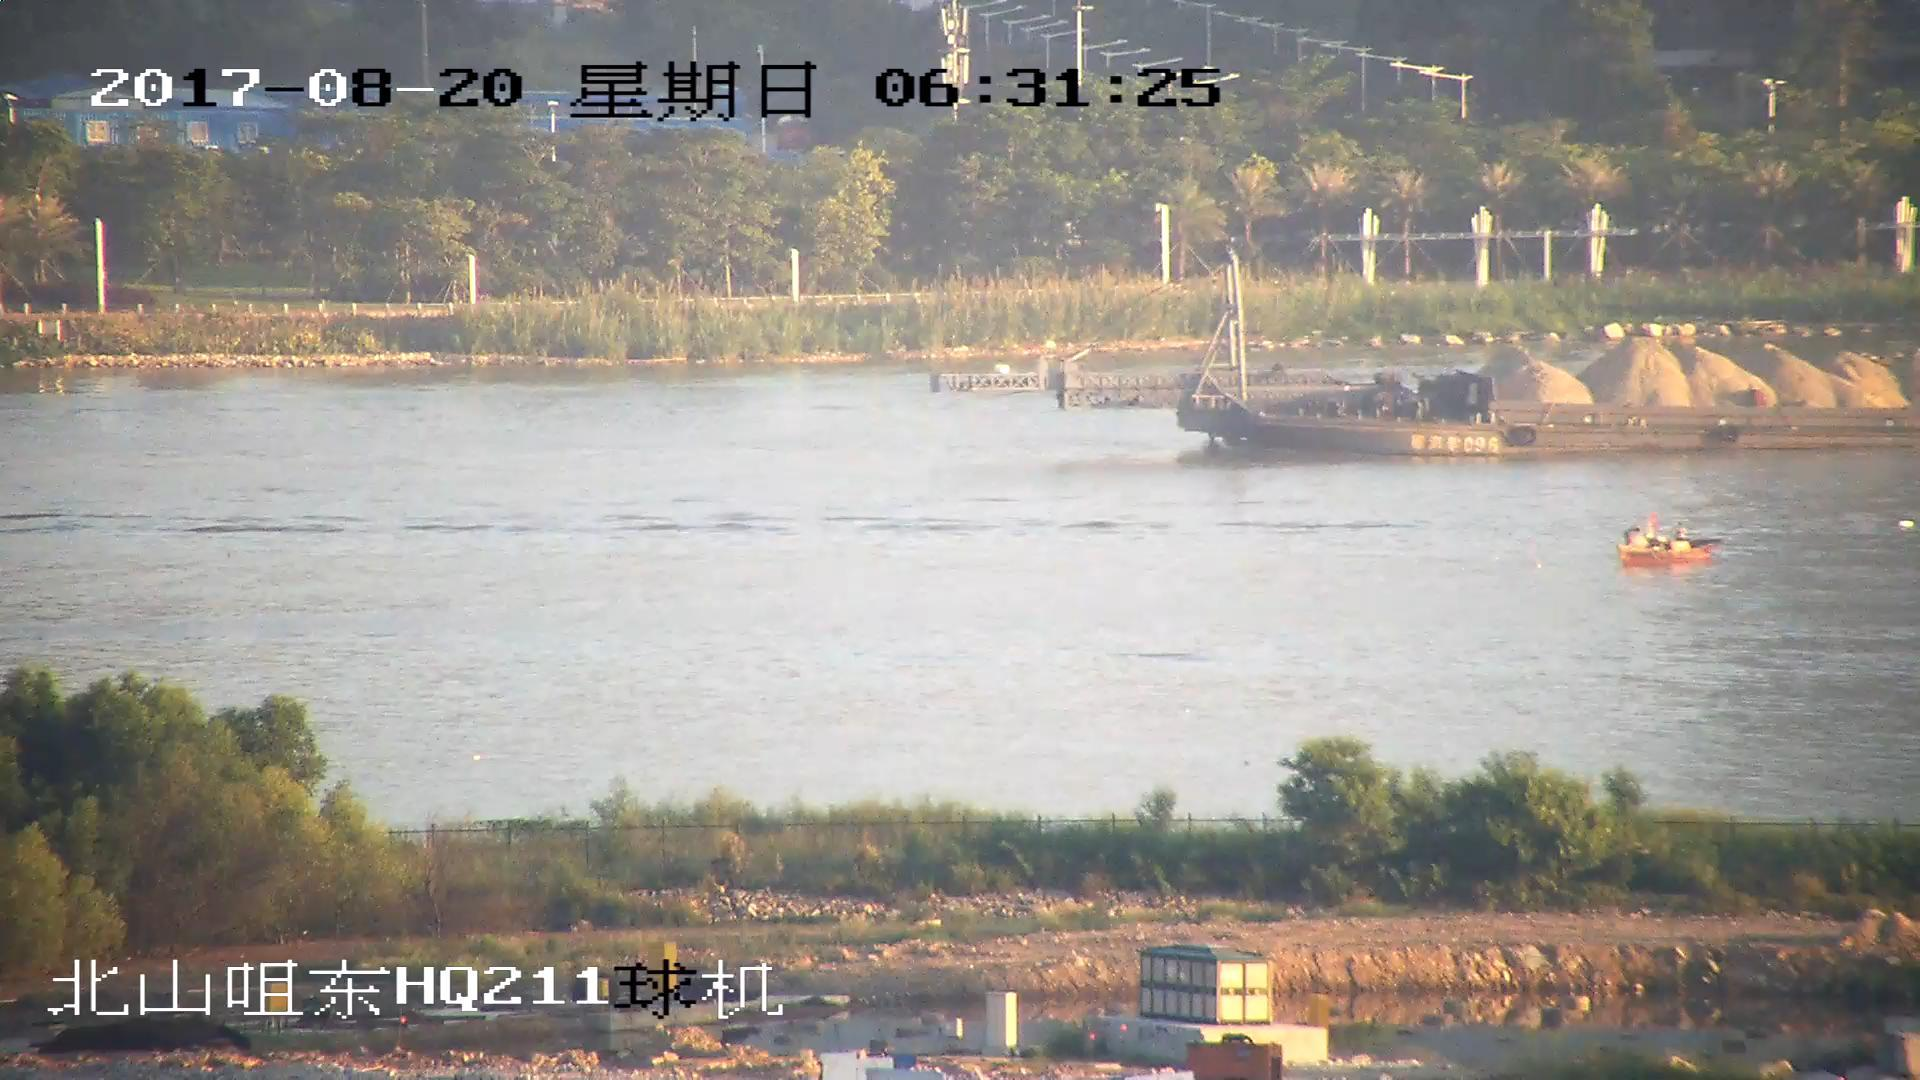Ship: (932, 247, 1920, 462), (1619, 512, 1727, 571)
